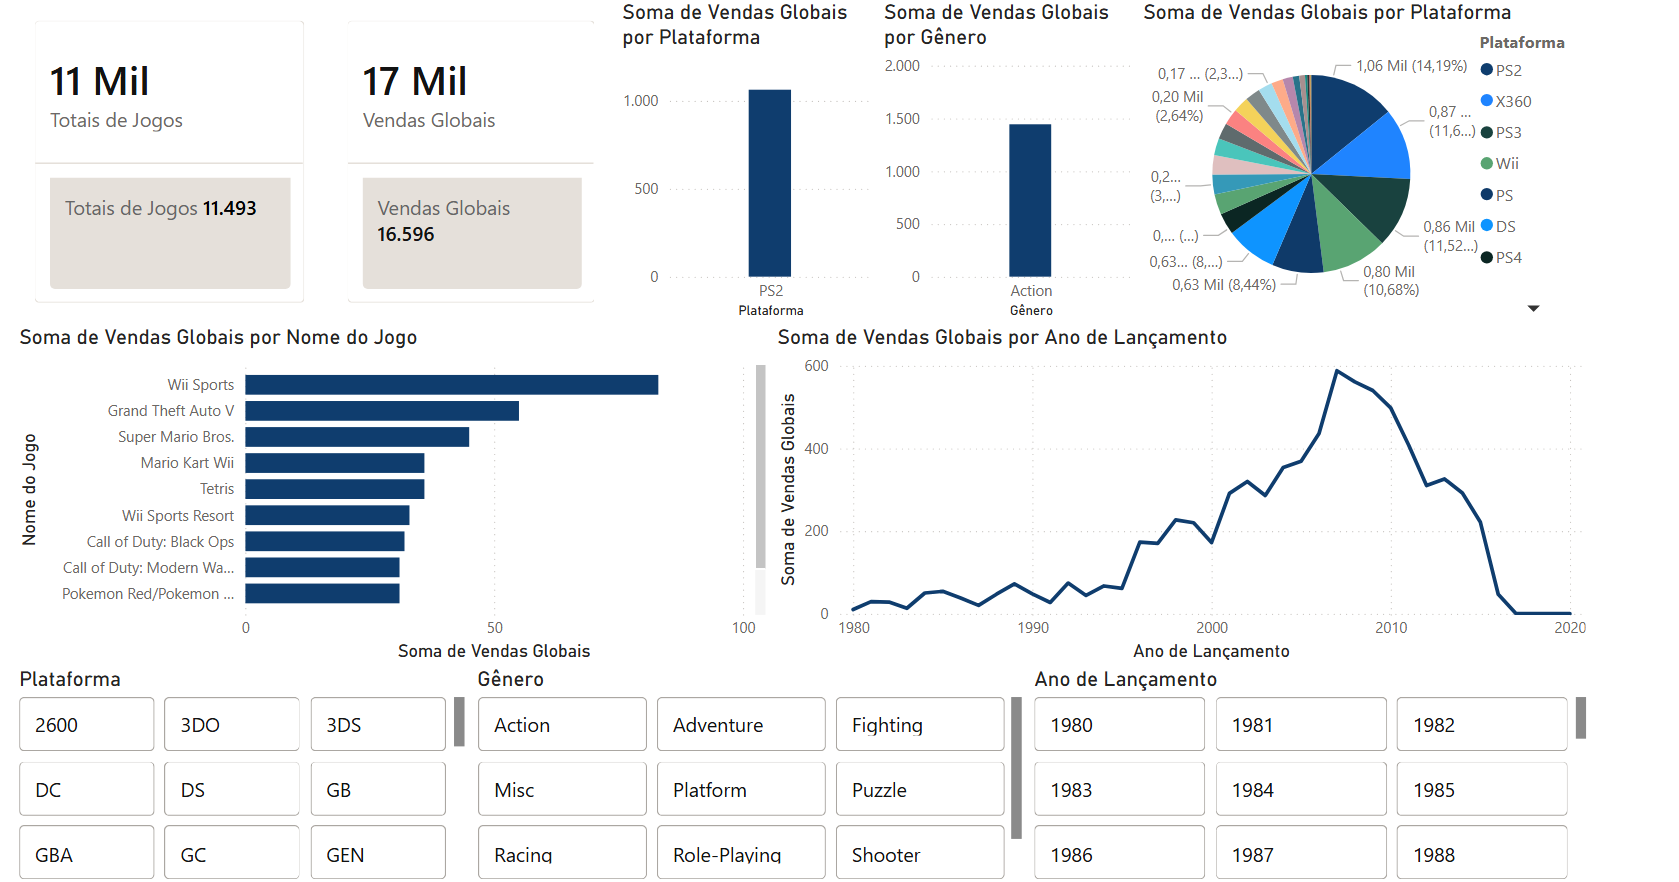

The dashboard page shown, as its layout file describes it:
{"tool":"powerbi","page":{"name":"Página 1","canvas":[1280,720],"ordinal":0},"visuals":[{"type":"lineClusteredColumnComboChart","fields":{"Category":["Sheet1.Plataforma"],"Y":["Sum(Sheet1.Vendas Globais)"]},"box":[489.2,0,212,263.6],"z":0},{"type":"lineClusteredColumnComboChart","fields":{"Category":["Sheet1.Gênero"],"Y":["Sum(Sheet1.Vendas Globais)"]},"box":[701.3,0,210.1,263.6],"z":1000},{"type":"barChart","fields":{"Category":["Sheet1.Nome do Jogo"],"Y":["Sum(Sheet1.Vendas Globais)"]},"box":[0,263.6,614.7,277.2],"z":2000},{"type":"pieChart","fields":{"Category":["Sheet1.Plataforma"],"Y":["Sum(Sheet1.Vendas Globais)"]},"box":[911.4,0,368.6,263.6],"z":3000},{"type":"lineChart","fields":{"Category":["Sheet1.Ano de Lançamento"],"Y":["Sum(Sheet1.Vendas Globais)"]},"box":[614.7,263.6,665.3,277.2],"z":4000},{"type":"advancedSlicerVisual","fields":{"Values":["Sheet1.Plataforma"]},"box":[0,540.8,371.6,179],"z":5000},{"type":"advancedSlicerVisual","fields":{"Values":["Sheet1.Gênero"]},"box":[371.6,540.8,451.3,179],"z":6000},{"type":"advancedSlicerVisual","fields":{"Values":["Sheet1.Ano de Lançamento"]},"box":[822.9,540.8,457.1,179],"z":7000},{"type":"cardVisual","fields":{"Data":["CountNonNull(Sheet1.Vendas Globais)"]},"box":[253.9,0,235.4,263.6],"z":8000},{"type":"cardVisual","fields":{"Data":["Count(Sheet1.Nome do Jogo)"]},"box":[0,0,253.9,263.6],"z":9000}]}

Visuals, with their boxes on the page's 1280x720 design canvas (x1, y1, x2, y2). These are canvas units, not pixel positions in the 1679x882 screenshot, which may show the page scaled, cropped or inside an application window:
lineClusteredColumnComboChart - Sheet1.Plataforma x Sum(Sheet1.Vendas Globais): <region>489, 0, 701, 264</region>
lineClusteredColumnComboChart - Sheet1.Gênero x Sum(Sheet1.Vendas Globais): <region>701, 0, 911, 264</region>
barChart - Sheet1.Nome do Jogo x Sum(Sheet1.Vendas Globais): <region>0, 264, 615, 541</region>
pieChart - Sheet1.Plataforma x Sum(Sheet1.Vendas Globais): <region>911, 0, 1280, 264</region>
lineChart - Sheet1.Ano de Lançamento x Sum(Sheet1.Vendas Globais): <region>615, 264, 1280, 541</region>
advancedSlicerVisual - Sheet1.Plataforma: <region>0, 541, 372, 720</region>
advancedSlicerVisual - Sheet1.Gênero: <region>372, 541, 823, 720</region>
advancedSlicerVisual - Sheet1.Ano de Lançamento: <region>823, 541, 1280, 720</region>
cardVisual - CountNonNull(Sheet1.Vendas Globais): <region>254, 0, 489, 264</region>
cardVisual - Count(Sheet1.Nome do Jogo): <region>0, 0, 254, 264</region>
